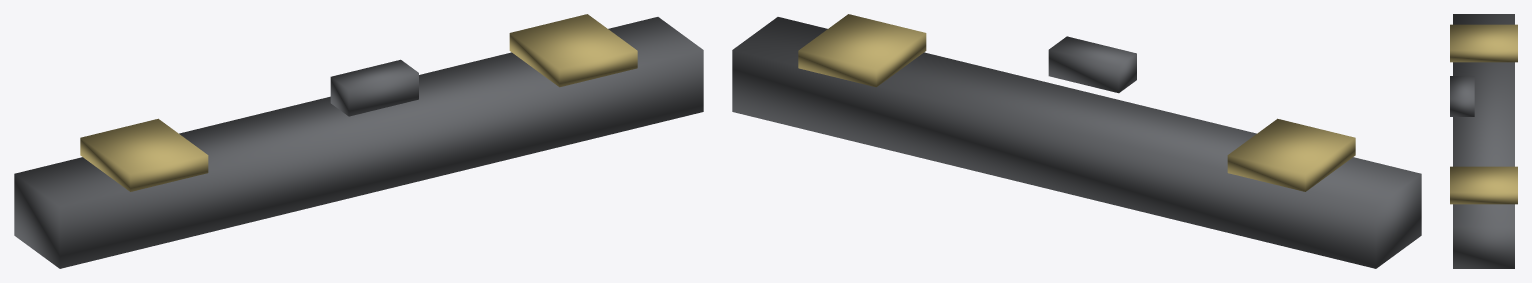
File: wheel_stop_06.glb
3 renders of one model, left to right at view 1: azimuth 30°, elevation 25°; view 2: azimuth 150°, elevation 25°; view 3: azimuth 270°, elevation 25°, orthographic. The views are drawn at different scales.
Visible parts, largest first — view 1: world; view 2: world; view 3: world.
Part boxes in pixels (bbox=[...]): world: bbox=[14, 14, 703, 268]; world: bbox=[732, 14, 1421, 268]; world: bbox=[1450, 14, 1517, 268].
Bounding box in the file's own units: 1.58 × 0.26 × 0.2134.
